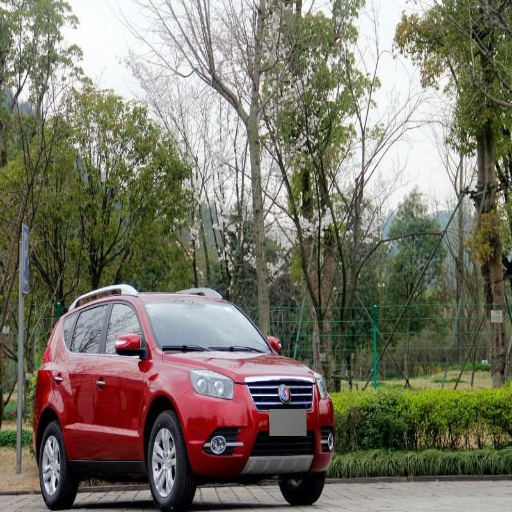front_bumper: (183, 377, 334, 476)
front_right_door: (95, 297, 147, 455)
